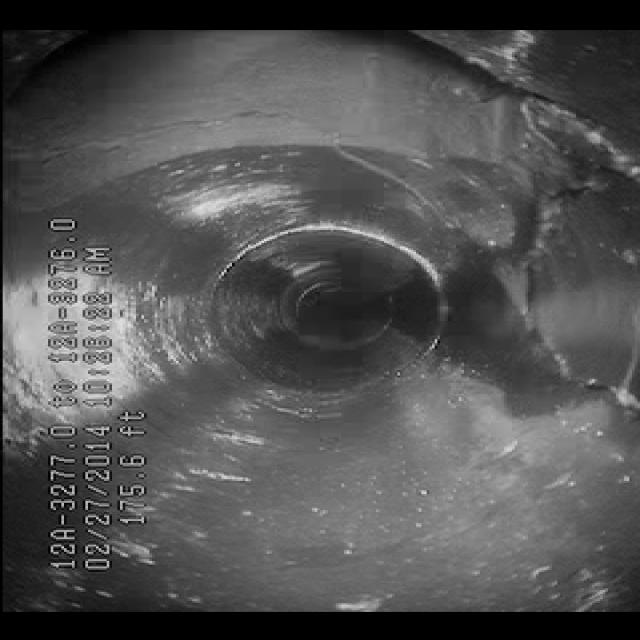Fracture: (430, 93, 612, 290)
